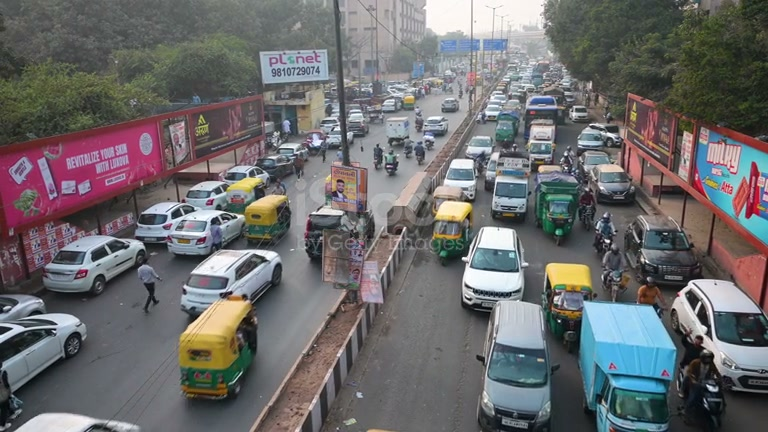bus: (535, 171, 581, 239), (526, 118, 556, 162), (524, 95, 559, 129), (526, 118, 557, 146)
car: (668, 278, 768, 393), (476, 299, 557, 431), (178, 297, 259, 401), (0, 312, 88, 398), (178, 248, 284, 317), (41, 234, 147, 296), (460, 226, 528, 313), (541, 263, 596, 336), (164, 209, 247, 257), (637, 225, 702, 285), (8, 411, 144, 431), (243, 193, 292, 247), (430, 200, 474, 260), (134, 201, 196, 243), (490, 173, 529, 221), (438, 158, 480, 202), (590, 164, 635, 205), (184, 180, 230, 209), (0, 294, 46, 322), (222, 164, 271, 189), (576, 150, 612, 184), (255, 155, 297, 181), (464, 135, 495, 168), (277, 142, 309, 172), (576, 130, 609, 152), (301, 130, 329, 152), (424, 116, 449, 136), (441, 97, 460, 112)
motorcycle: (681, 371, 727, 431), (384, 156, 399, 177)
pedestrian: (680, 350, 723, 405), (138, 257, 162, 311), (636, 282, 667, 317), (601, 244, 625, 285)
truck: (577, 299, 679, 431), (178, 296, 259, 402), (540, 262, 596, 338), (324, 161, 369, 214), (384, 115, 411, 144)
